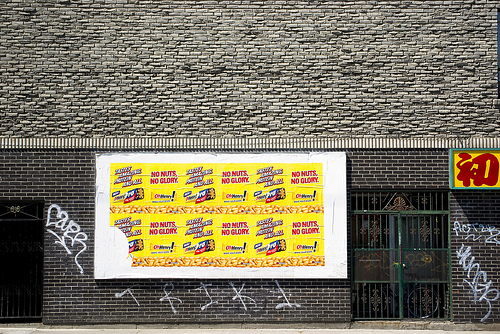graffiti: (113, 281, 305, 313), (456, 243, 499, 322), (45, 201, 87, 276), (452, 218, 500, 244)
